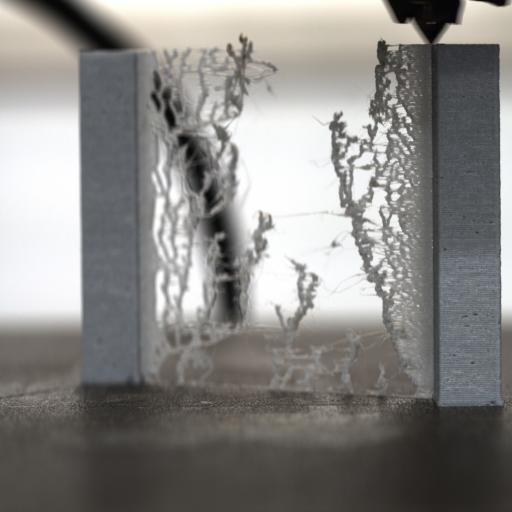stringing: (147, 36, 284, 370), (304, 40, 424, 395)
